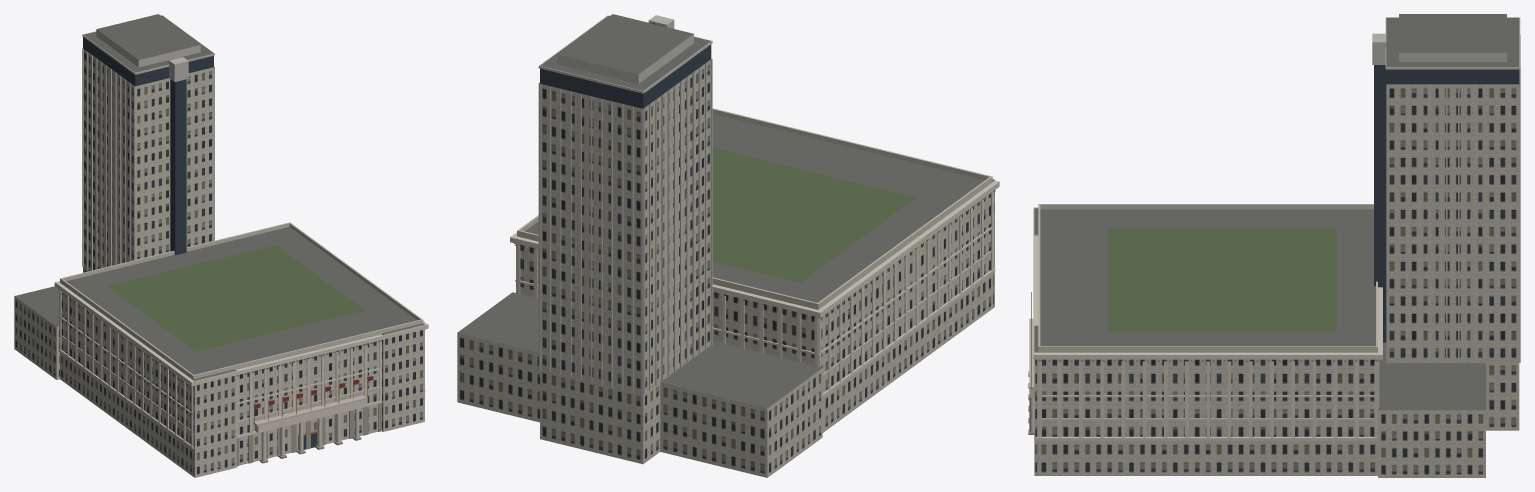
File: fairmont_sf.glb
The picture shows the model from 3 angles, left to right: view 1: azimuth 30°, elevation 25°; view 2: azimuth 150°, elevation 25°; view 3: azimuth 270°, elevation 25°; orthographic projection. The views are drawn at different scales.
Visible parts, largest first — view 1: fairmont_sf; view 2: fairmont_sf; view 3: fairmont_sf.
Part boxes in pixels (bbox=[...]): fairmont_sf: bbox=[14, 14, 428, 477]; fairmont_sf: bbox=[457, 14, 999, 477]; fairmont_sf: bbox=[1028, 14, 1520, 477].
Bounding box in the file's own units: 84 × 99 × 118.
2 materials, 2 textured.
